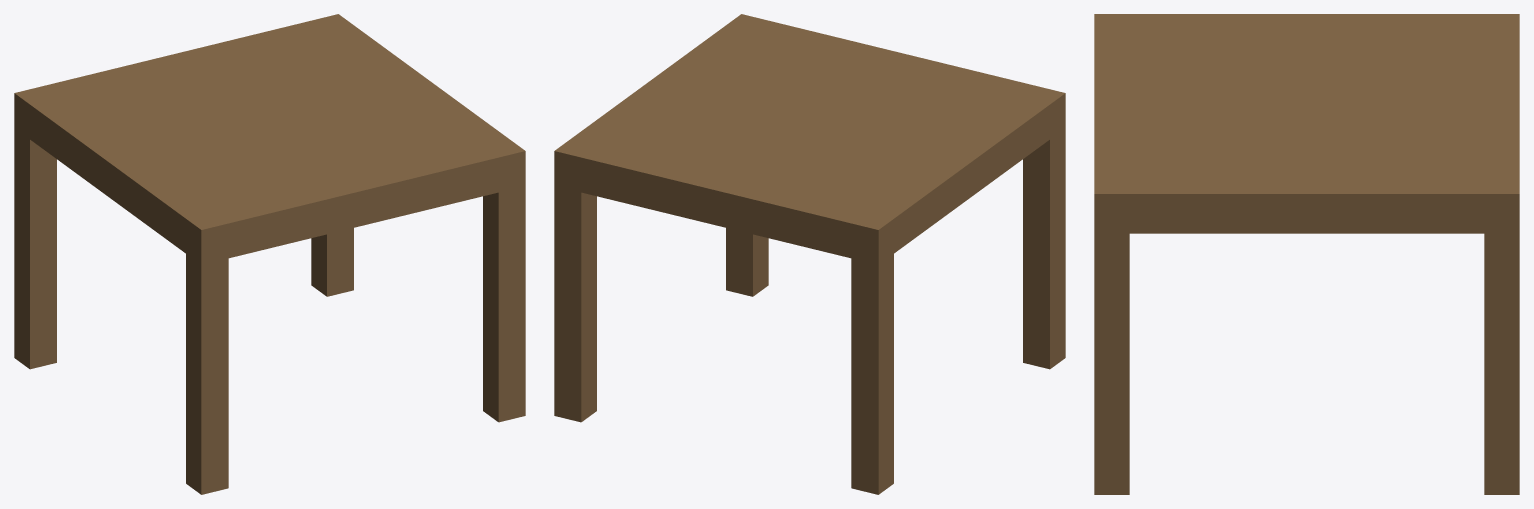
The model's file is table.fbx.
The picture shows the model from 3 angles, left to right: view 1: azimuth 30°, elevation 25°; view 2: azimuth 150°, elevation 25°; view 3: azimuth 270°, elevation 25°; orthographic projection. The views are drawn at different scales.
Parts seen in each view (by area): view 1: table5; view 2: table5; view 3: table5.
Part boxes in pixels (x1=…): table5: x1=14, y1=14, x2=525, y2=494; table5: x1=554, y1=14, x2=1065, y2=494; table5: x1=1094, y1=14, x2=1519, y2=494.
Size of the model in its own units: 240 by 187 by 240.
